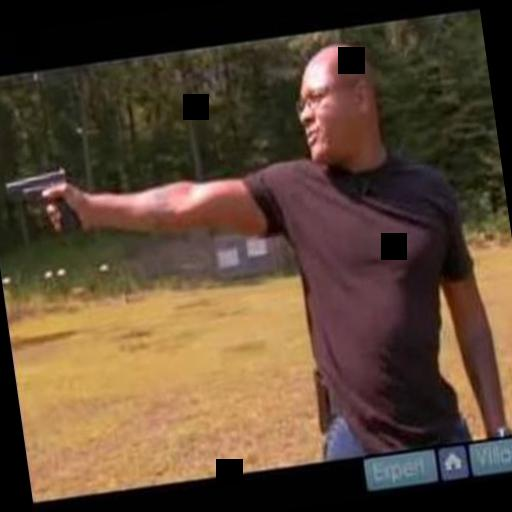Handgun: (0, 160, 85, 249)
